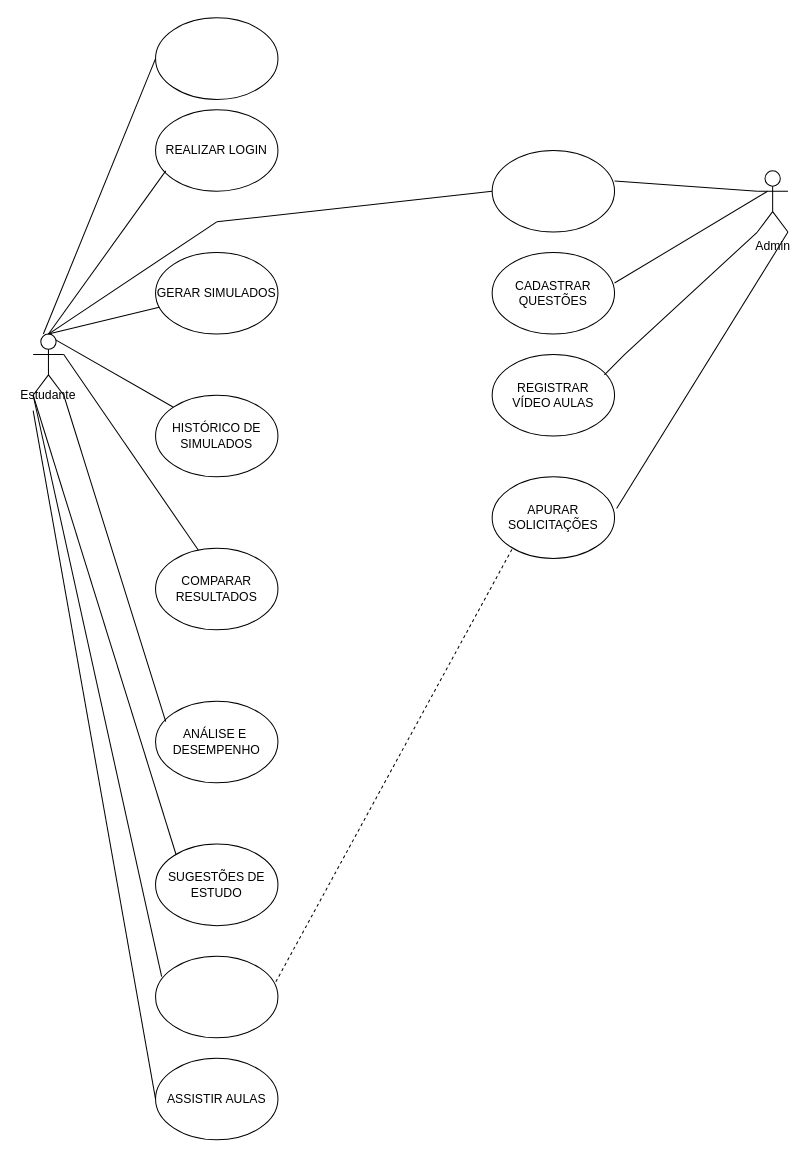
The diagram is 807 pixels wide and 1158 high, and some of its shapes have lost their labels. The shapes that lost their labels are listed below. From the top down, each one's box as (x1, y1, x2, y2) in pixels, then its label:
(155, 17, 278, 99): CADASTRO DE USUARIO
(491, 149, 615, 232): ATUALIZAR PERFIL
(32, 333, 64, 395): Actor
(155, 955, 278, 1038): FALE CONOSCO
